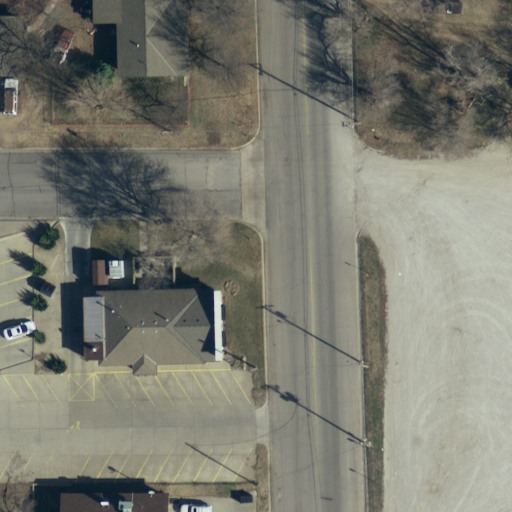DT: (350, 431, 379, 455), (239, 473, 269, 493), (339, 111, 364, 133), (349, 354, 373, 376)
